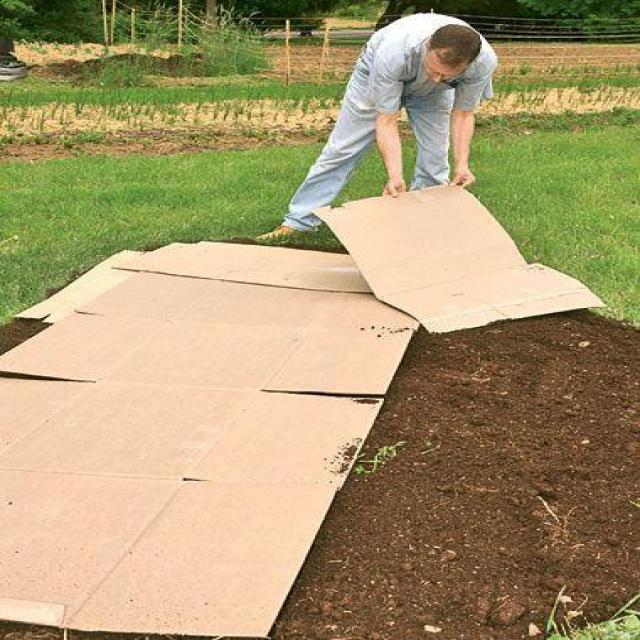cardboard: (0, 238, 421, 640), (307, 182, 606, 336)
